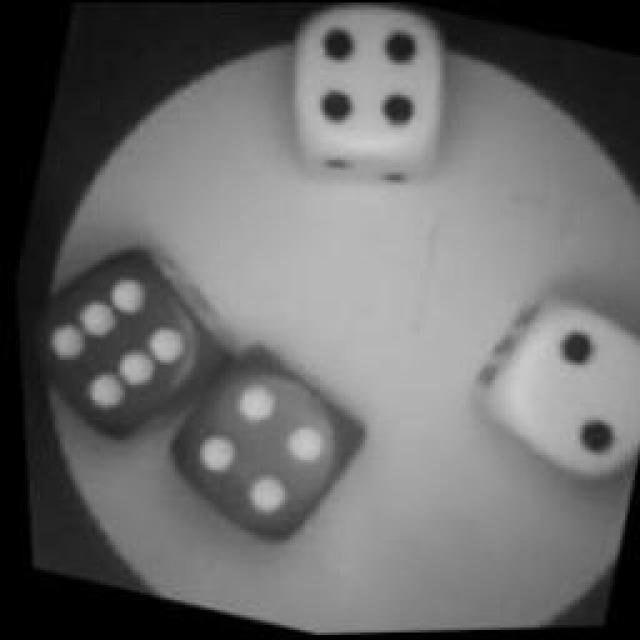dice_2: (445, 262, 640, 508)
dice_4: (155, 332, 380, 556), (255, 0, 473, 210)
dice_6: (12, 202, 246, 456)
